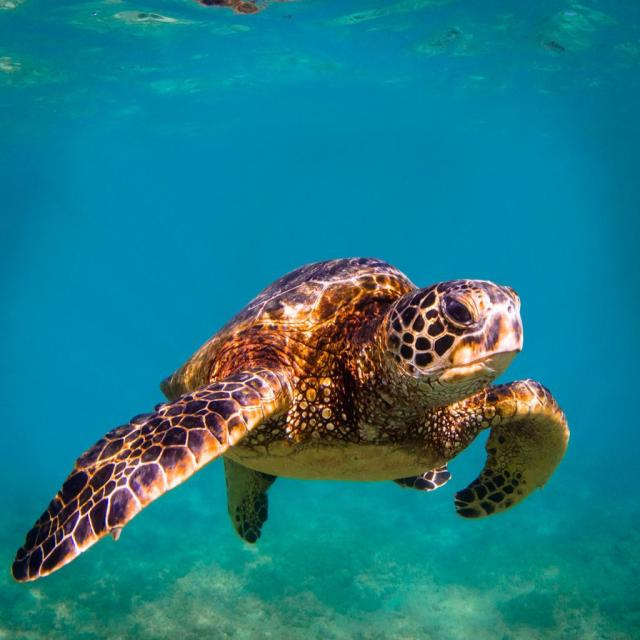turtle: (80, 252, 617, 545)
